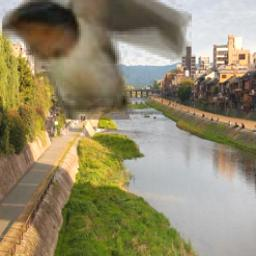Swallow: (1, 0, 191, 120)
